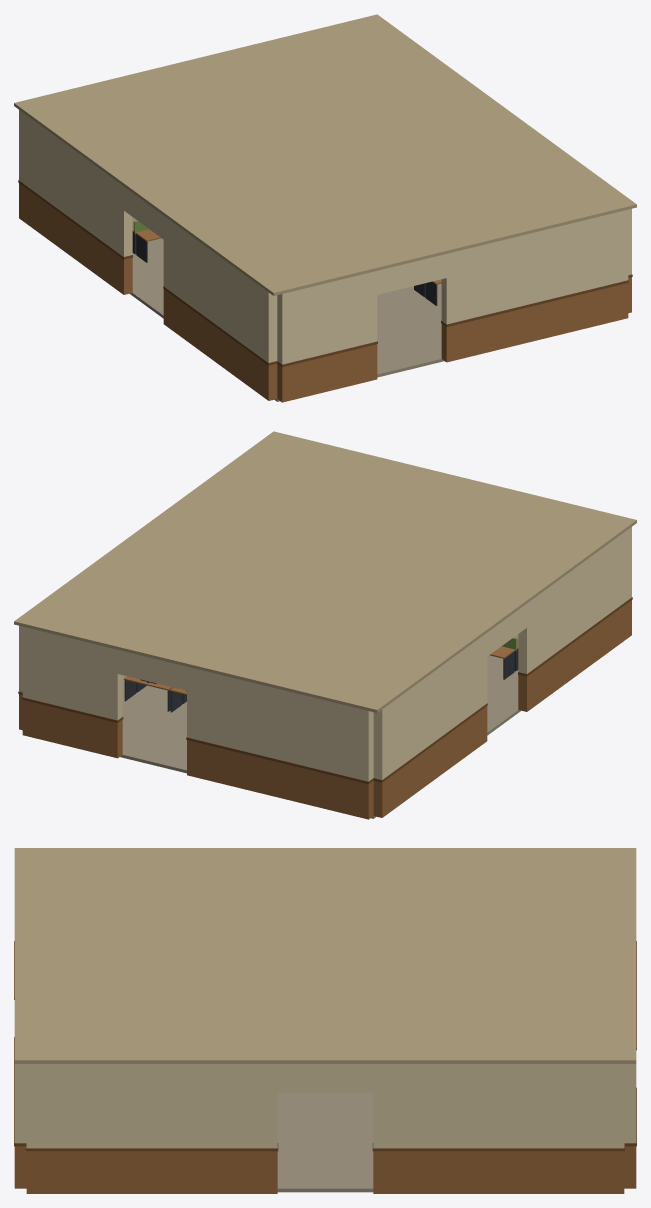
The model's file is room_shared_office_open.glb.
3 renders of one model, top to bottom at view 1: azimuth 30°, elevation 25°; view 2: azimuth 150°, elevation 25°; view 3: azimuth 270°, elevation 25°, orthographic. The views are drawn at different scales.
Parts seen in each view (by area): view 1: room_shared_office_open; view 2: room_shared_office_open; view 3: room_shared_office_open.
Boxes of the visible parts, x1,y1,x2,y2 form: room_shared_office_open: (14,14,636,402); room_shared_office_open: (14,431,636,819); room_shared_office_open: (14,848,636,1193).
Bounding box in the file's own units: 12.62 × 3.8 × 15.64.
Materials: 1 (1 with a texture image).
